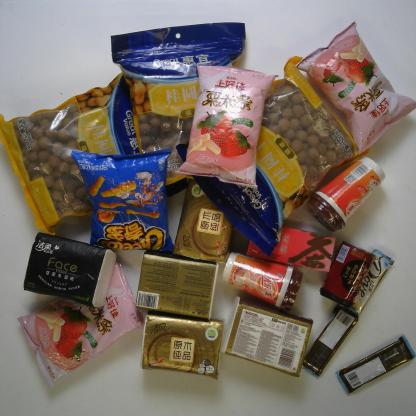Canned Food: (319, 239, 376, 309)
Chocolate: (334, 334, 416, 396), (301, 304, 360, 379), (332, 248, 395, 315)
Dried Food: (174, 54, 371, 256), (110, 21, 247, 199), (0, 70, 122, 235)
Instant Drink: (304, 154, 387, 232), (220, 251, 304, 315), (245, 226, 337, 273)
Puffed Food: (15, 259, 146, 389), (295, 18, 416, 155), (174, 64, 280, 191), (70, 146, 174, 254)
Tissue: (219, 295, 314, 378), (21, 230, 118, 308), (134, 250, 221, 321), (140, 314, 226, 380), (172, 178, 235, 264)
